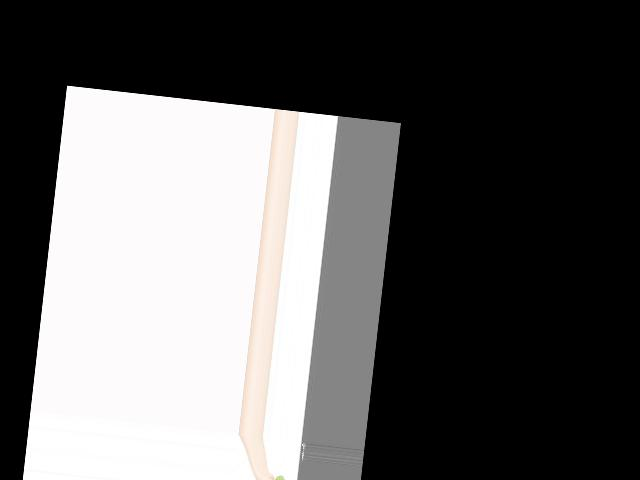cucumber: (270, 475, 292, 480)
